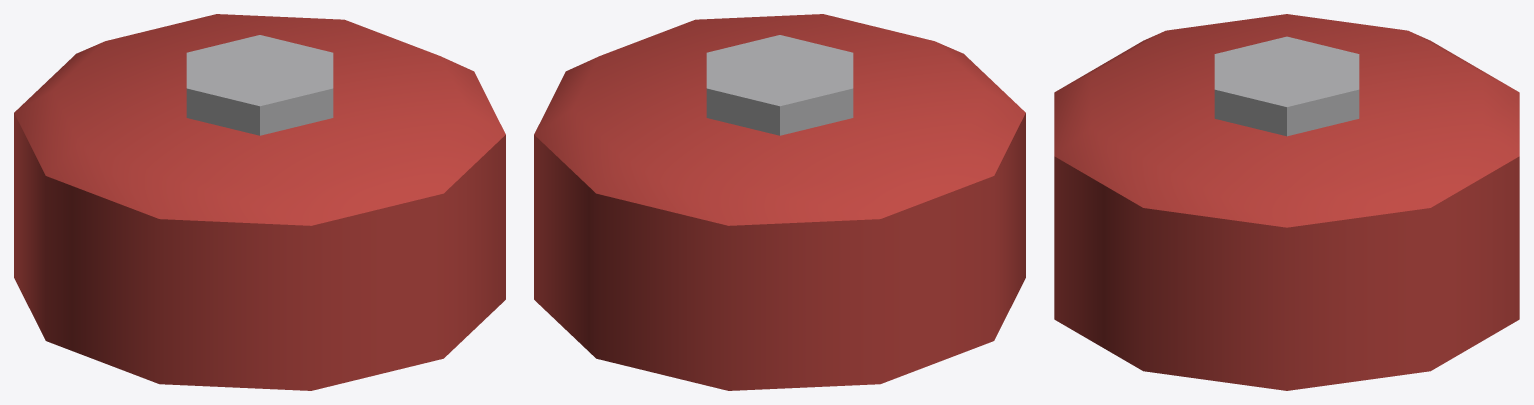
Rendered from lever_boss_lod1.glb.
3 renders of one model, left to right at view 1: azimuth 30°, elevation 25°; view 2: azimuth 150°, elevation 25°; view 3: azimuth 270°, elevation 25°, orthographic.
Parts seen in each view (by area): view 1: lever_boss_lod1; view 2: lever_boss_lod1; view 3: lever_boss_lod1.
Part boxes in pixels (left/top/right/bottom): lever_boss_lod1: left=14, top=14, right=505, bottom=390; lever_boss_lod1: left=534, top=14, right=1025, bottom=390; lever_boss_lod1: left=1054, top=14, right=1519, bottom=390.
Size of the model in its own units: 0.038 by 0.0185 by 0.0361.
